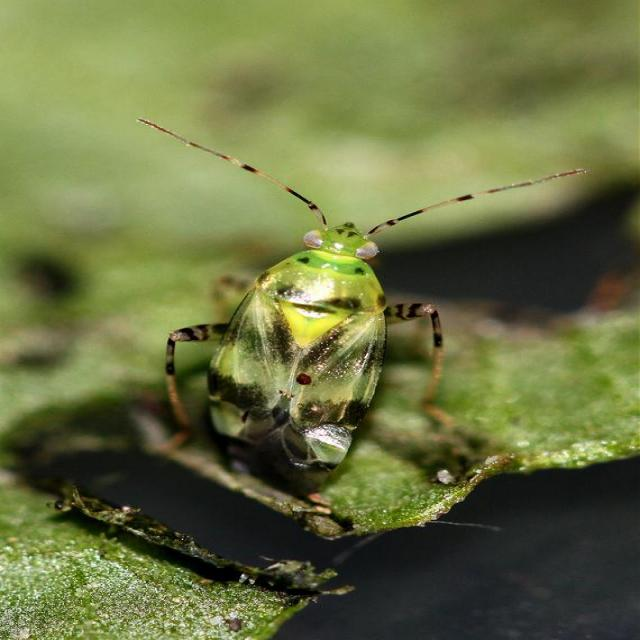Miridae-Adult-: (95, 110, 555, 493)
